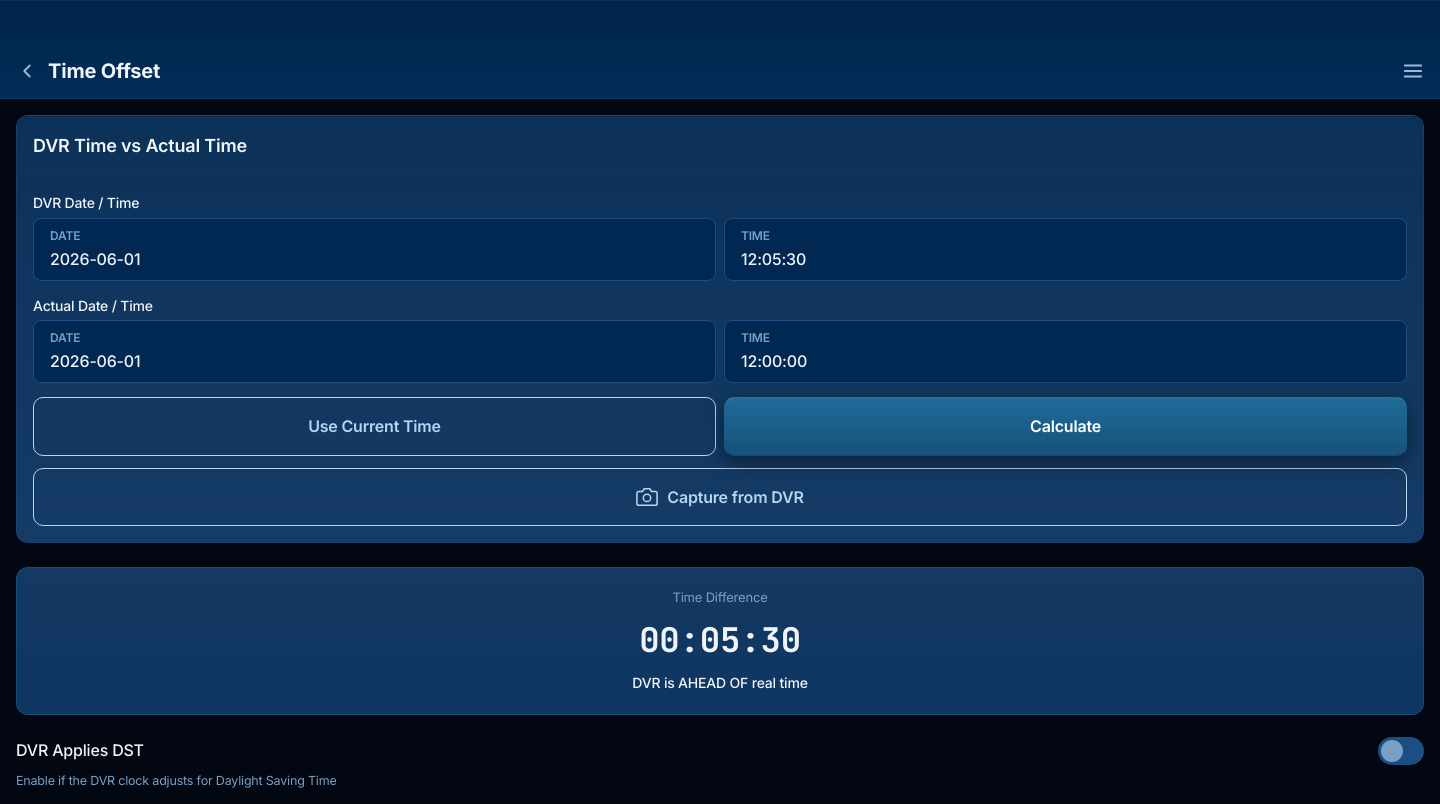
TimeOffsetScreen — recalculate guard › asks first when extracted scopes exist, with the phone’s copy
Click the button "Calculate" at [1066, 426], box [724, 397, 1407, 456]
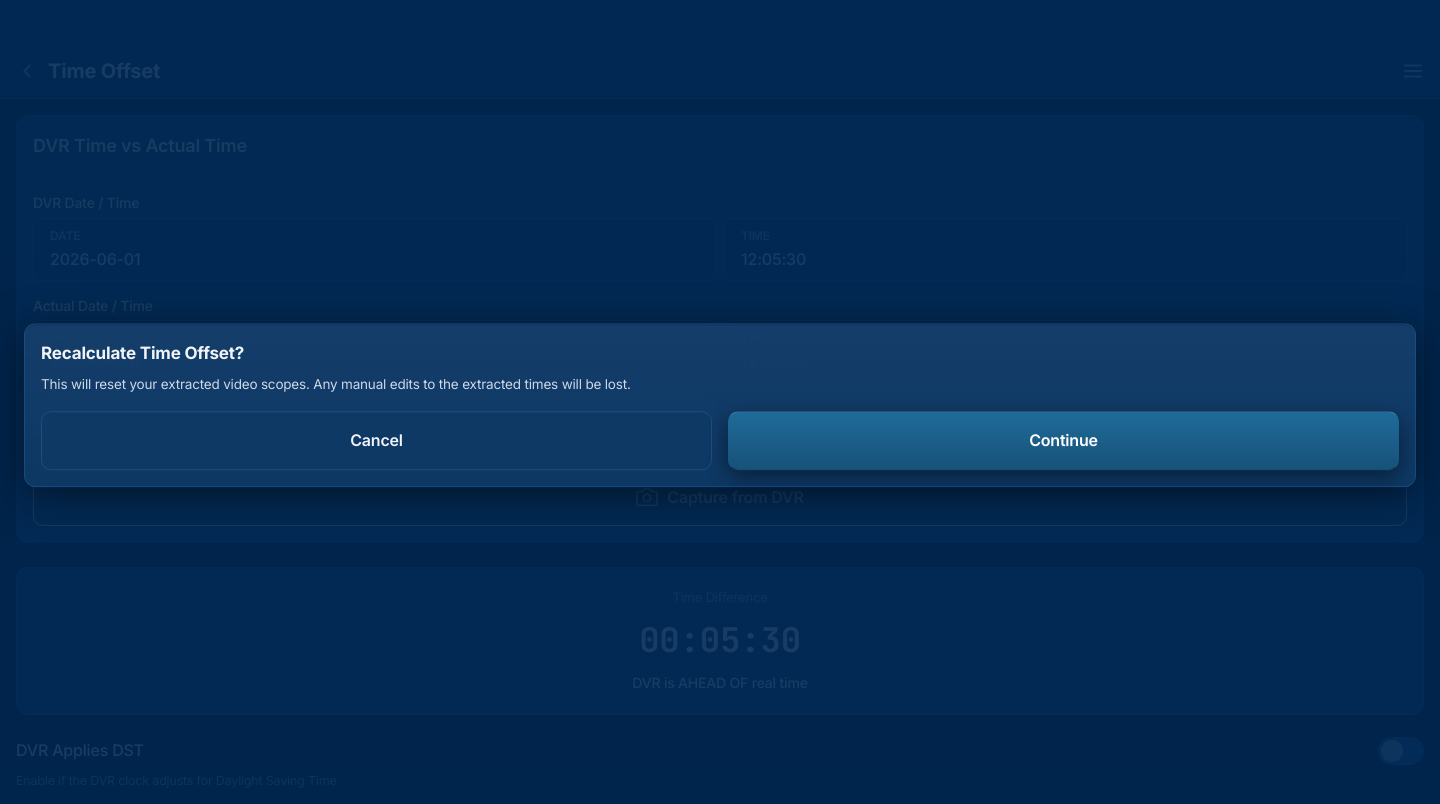
Now the dialog shows "Recalculate Time Offset?", box [41, 343, 244, 363]
Now the dialog shows "This will reset your extracted video scopes. Any manual edits to the extracted times will be lost.", box [41, 376, 631, 392]
